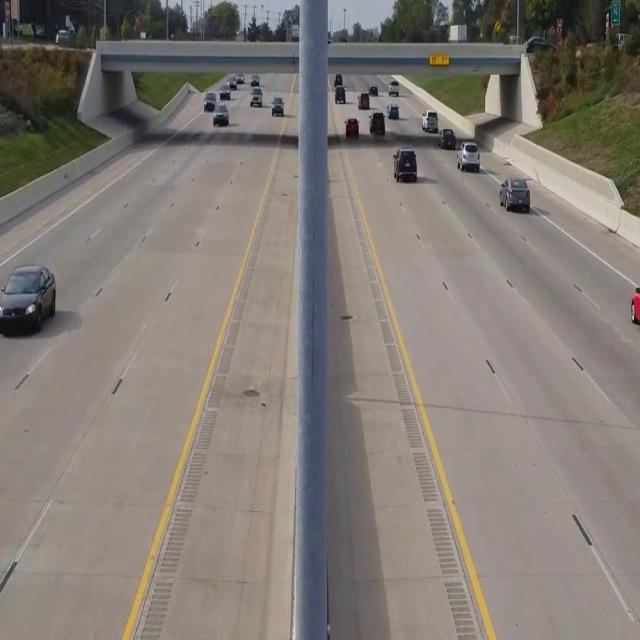car: (0, 264, 56, 334), (500, 176, 530, 212), (392, 148, 417, 182), (629, 276, 640, 342)
